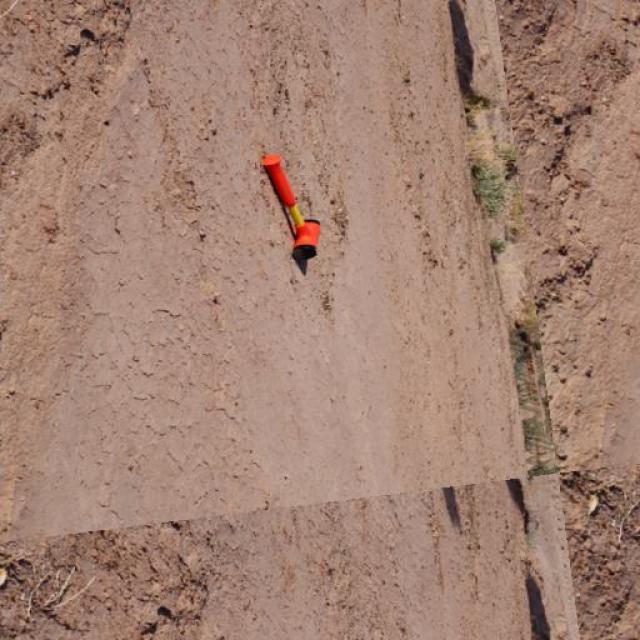mallet: (260, 151, 320, 261)
